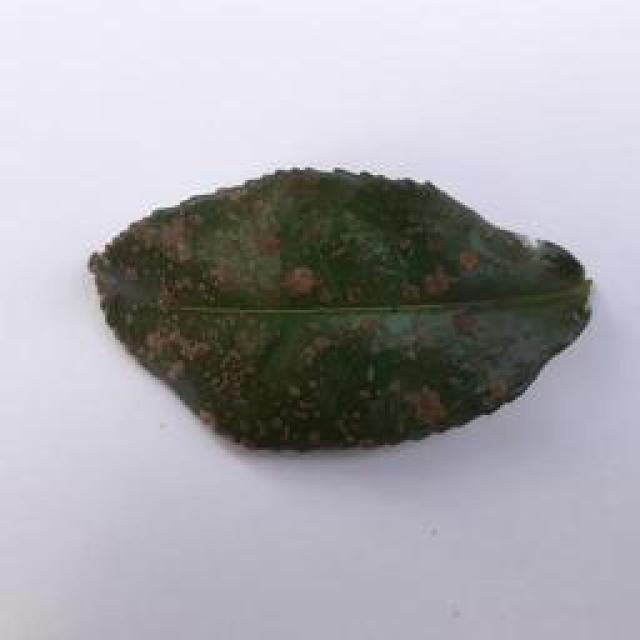Algal Leaf Spot: (95, 158, 608, 454)
